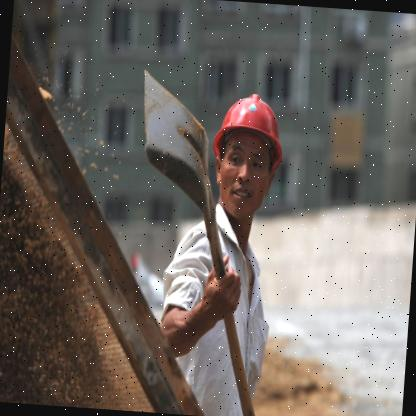capacete: (207, 85, 288, 224)
sem_colete_refletivo: (153, 203, 279, 415)
